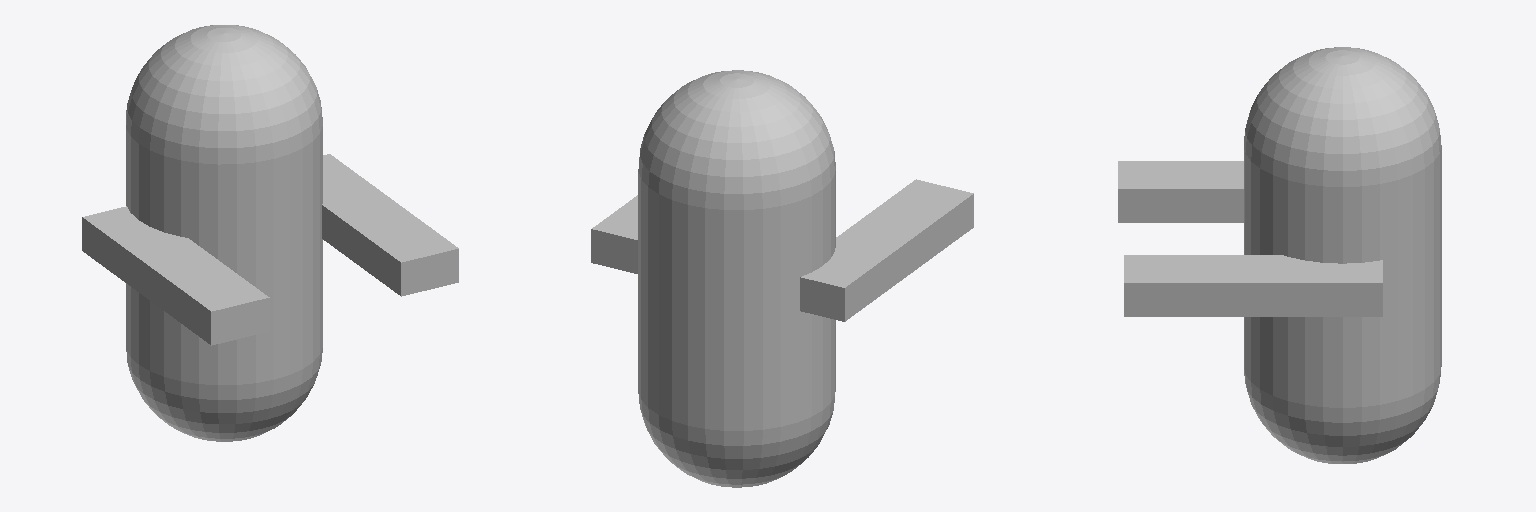
The model's file is player.obj.
3 views of the same model, side by side, from view 1: azimuth 30°, elevation 25°; view 2: azimuth 150°, elevation 25°; view 3: azimuth 270°, elevation 25° (orthographic).
Parts seen in each view (by area): view 1: Cylinder, Cube.001, Cube; view 2: Cylinder, Cube.001, Cube; view 3: Cylinder, Cube, Cube.001.
Boxes of the visible parts, <box> form: Cylinder: <box>126,25,322,441</box>; Cube.001: <box>82,206,269,345</box>; Cube: <box>322,154,458,296</box>; Cylinder: <box>638,70,835,487</box>; Cube.001: <box>800,179,973,321</box>; Cube: <box>591,195,637,273</box>; Cylinder: <box>1244,47,1441,463</box>; Cube: <box>1124,255,1382,316</box>; Cube.001: <box>1118,161,1243,222</box>.
Bounding box in the file's own units: 4.37 × 6.65 × 4.88.